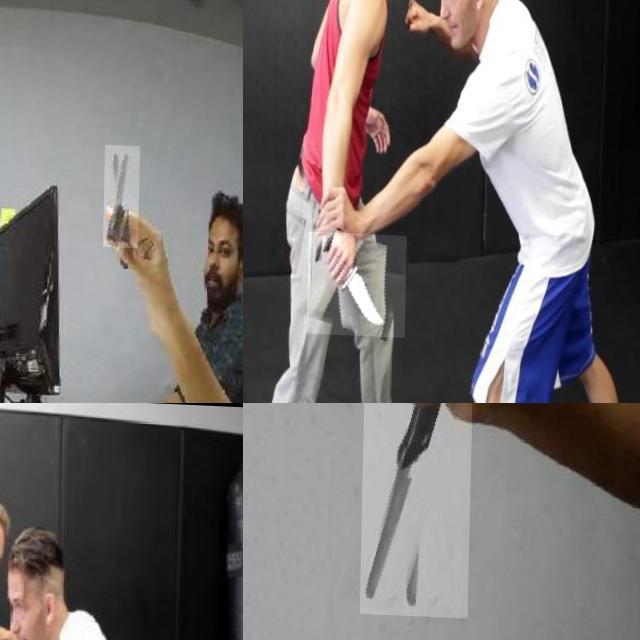-: (361, 403, 475, 614), (309, 230, 409, 335), (105, 141, 142, 244)
